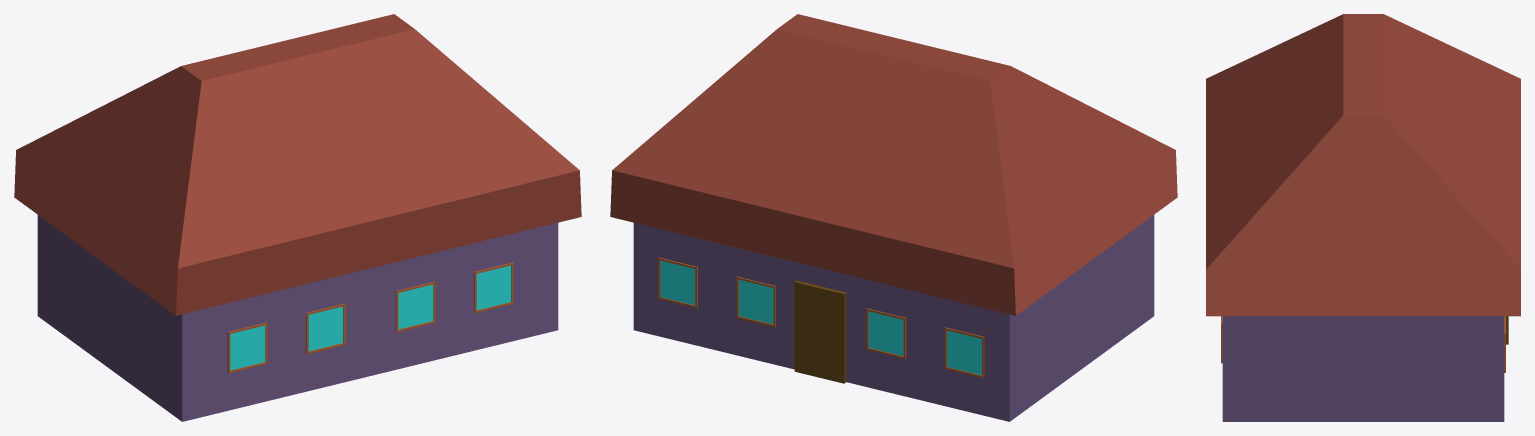
File: house3.fbx
The picture shows the model from 3 angles, left to right: view 1: azimuth 30°, elevation 25°; view 2: azimuth 150°, elevation 25°; view 3: azimuth 270°, elevation 25°; orthographic projection. The views are drawn at different scales.
Visible parts, largest first — view 1: House 3; view 2: House 3; view 3: House 3.
Part boxes in pixels (<box>): House 3: <box>14,14,581,421</box>; House 3: <box>610,14,1177,421</box>; House 3: <box>1206,14,1520,421</box>.
Size of the model in its own units: 323 by 210 by 223.
